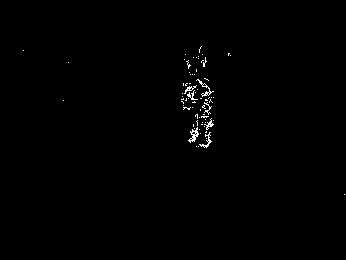person: (179, 74, 200, 145), (198, 78, 217, 151)
